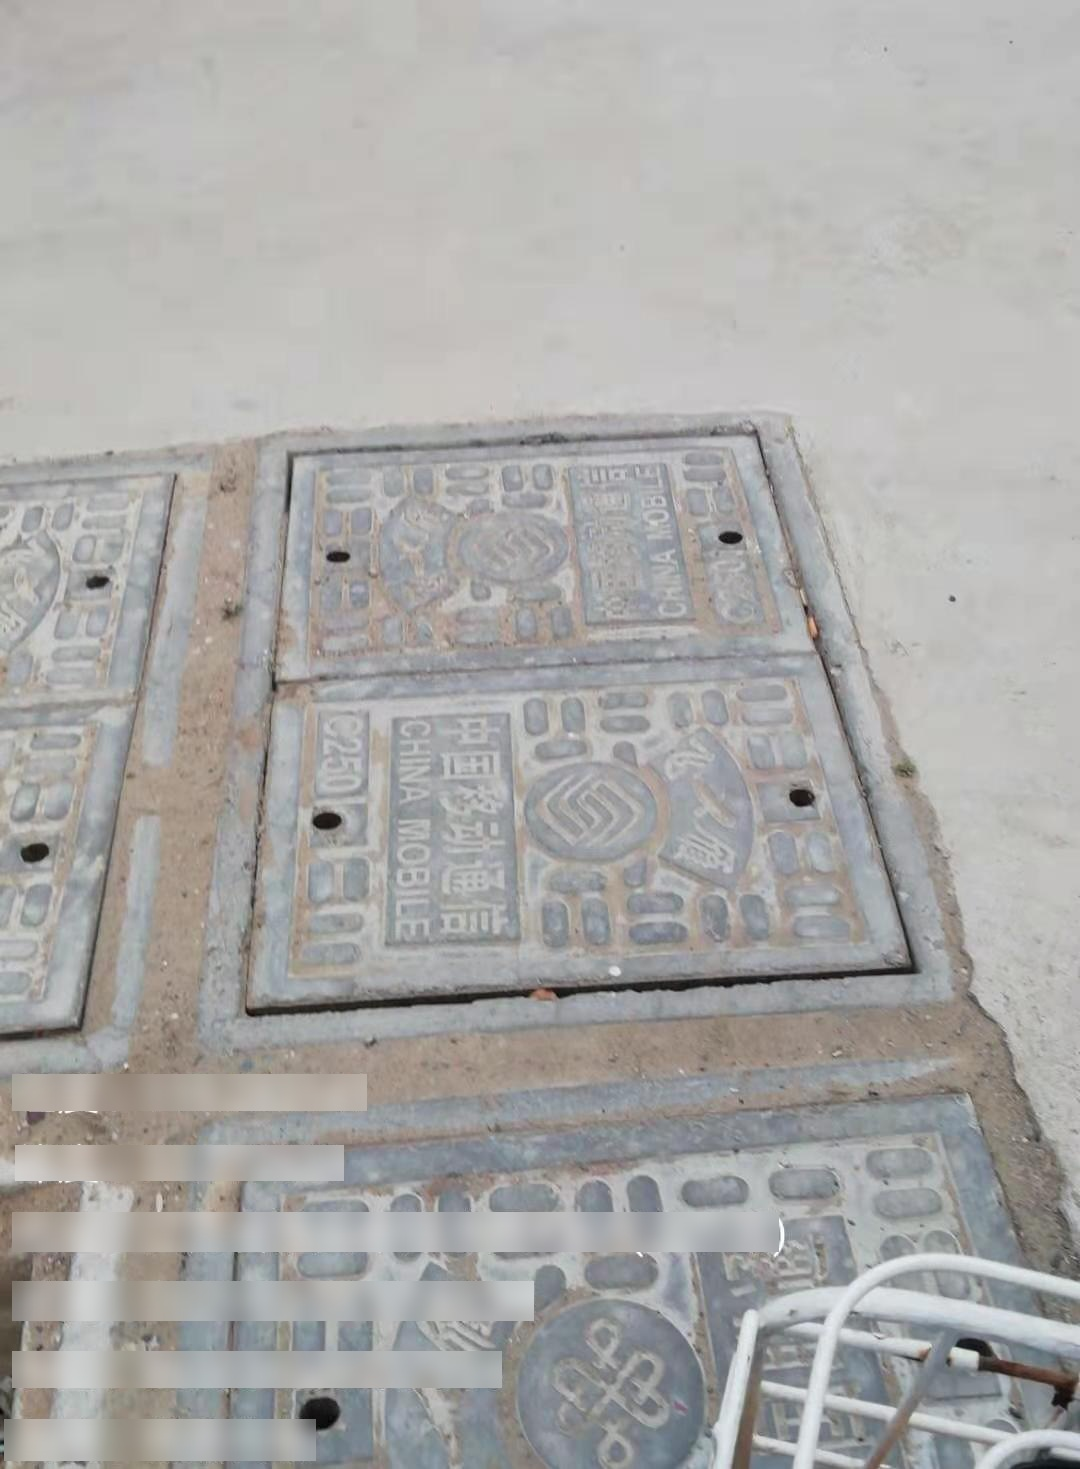well: (228, 417, 955, 1031), (149, 1076, 1077, 1467), (0, 437, 205, 1076)
